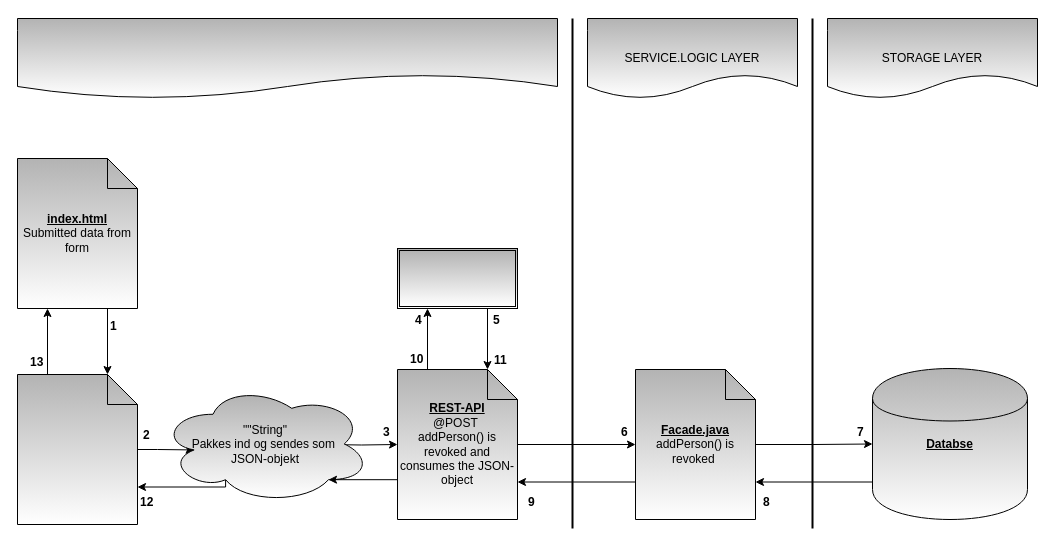
This 1055x546 diagram has some shape labels left out. The shapes that lost their labels are listed below. From the top down, each one's centre as x and y in pixels, then its label:
At pixel 287 58: "PRESENTATION LAYER".
At pixel 457 278: "JSON-converter".
At pixel 77 449: "Javascript.js".
